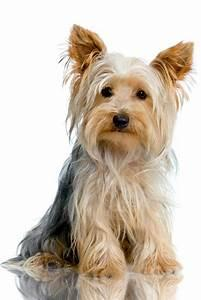dog: (0, 23, 196, 287)
